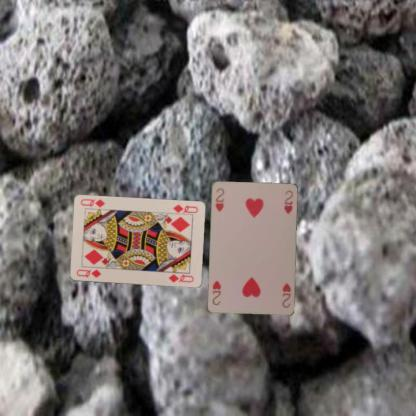2h: (280, 280, 291, 309), (213, 186, 225, 212)
Qd: (168, 202, 199, 217), (74, 267, 102, 279)
